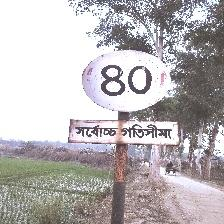Speed-limit: (71, 48, 177, 145)
